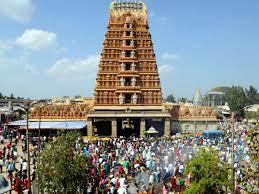Temple: (91, 1, 170, 128)
